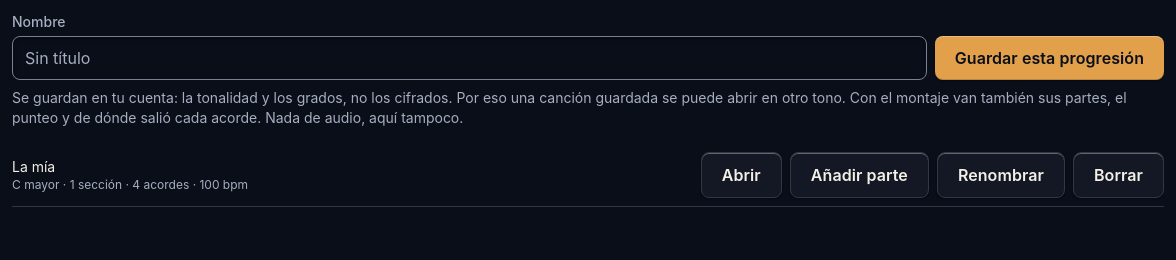
cuando el servidor no coopera › borrar y no poder se dice
Expected: the text "La mía" is shown, [12,158,55,175]
Click the button "Borrar": (1118, 175) [1073,152,1164,198]
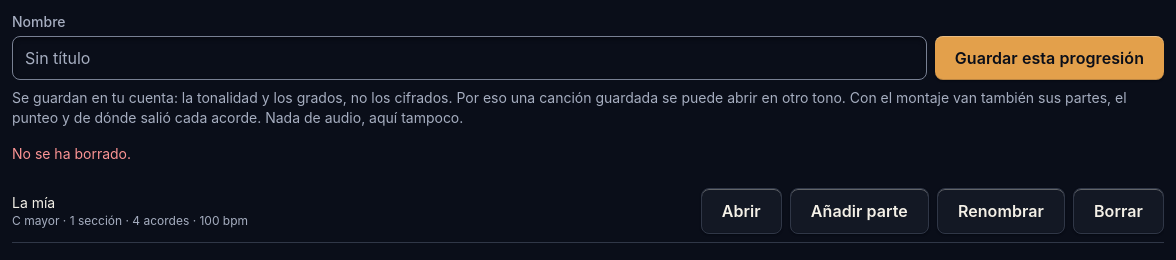
Expected: the text "No se ha borrado." is shown, [12,145,131,162]
